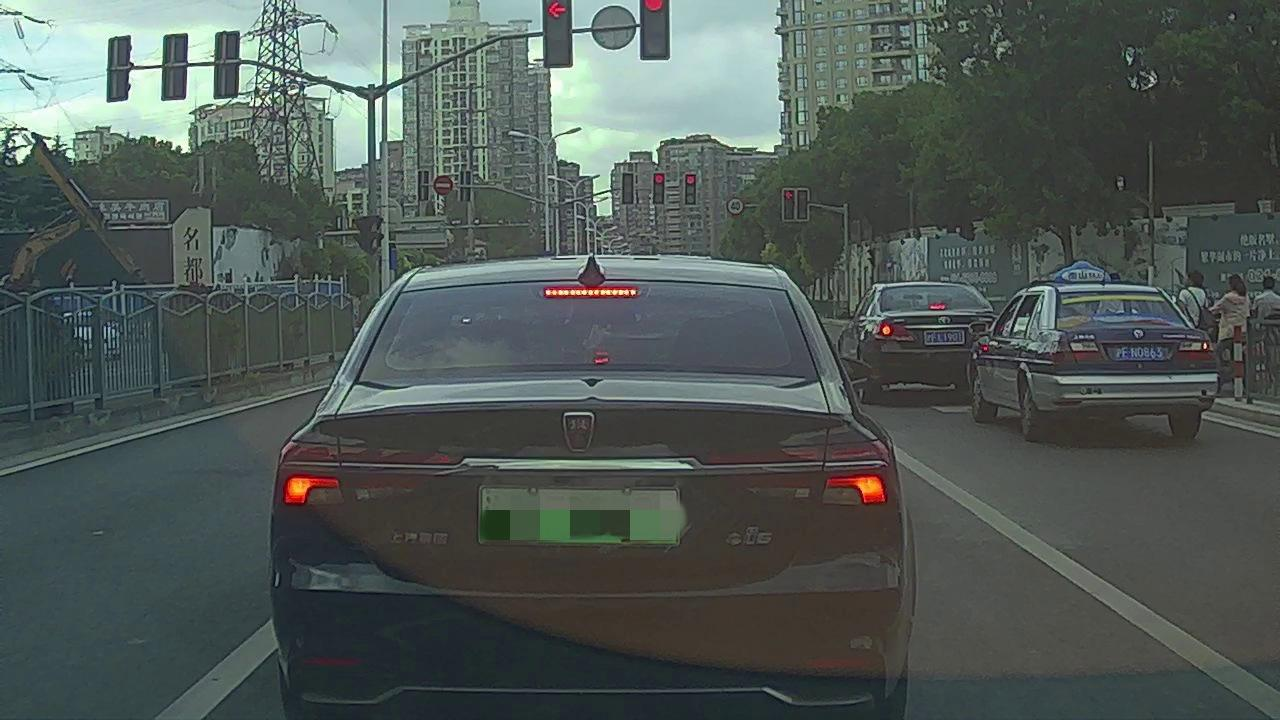traffic_light: (639, 1, 669, 60), (544, 1, 571, 65), (622, 173, 634, 204), (653, 173, 664, 204), (685, 174, 696, 205), (797, 190, 808, 220), (784, 190, 794, 220)
